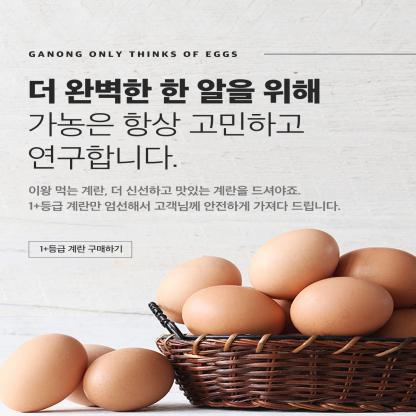egg: (65, 332, 204, 411), (134, 245, 264, 321), (236, 225, 352, 310), (172, 277, 304, 344), (274, 276, 402, 342), (0, 320, 89, 414), (324, 229, 416, 316)
